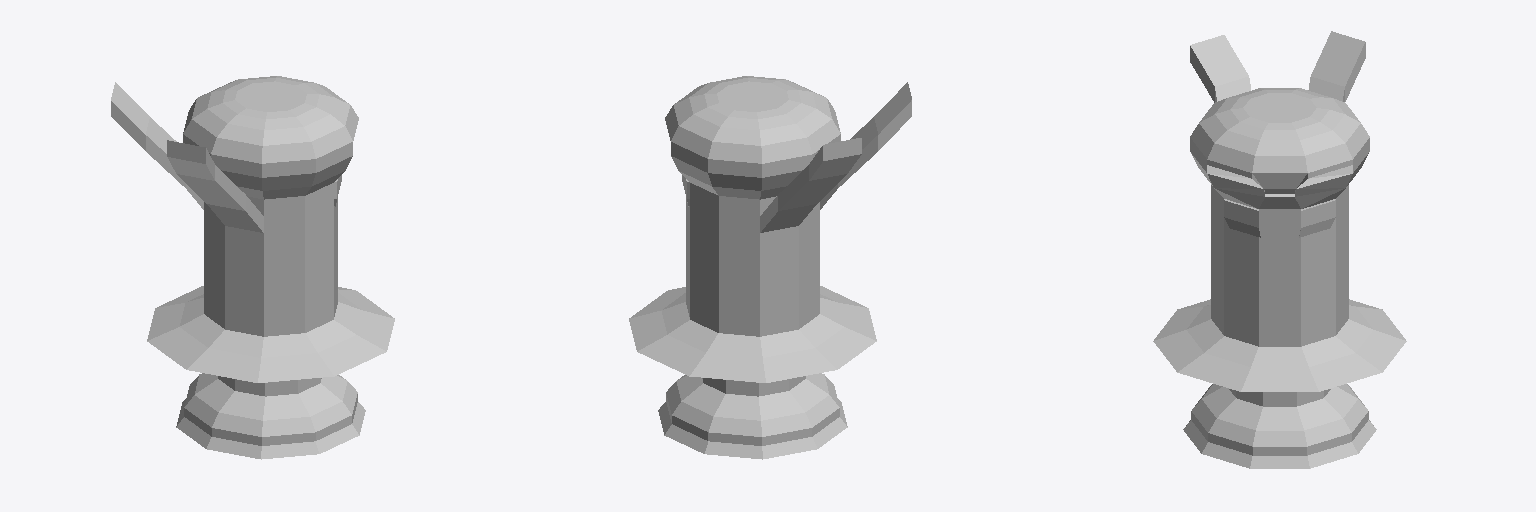
File: totem3.obj
3 renders of one model, left to right at view 1: azimuth 30°, elevation 25°; view 2: azimuth 150°, elevation 25°; view 3: azimuth 270°, elevation 25°, orthographic.
Visible parts, largest first — view 1: Cylinder; view 2: Cylinder; view 3: Cylinder.
Boxes of the visible parts, box(x1,y1,x2,y2) form: Cylinder: box(111, 76, 394, 459); Cylinder: box(629, 76, 911, 459); Cylinder: box(1153, 31, 1406, 468).
Bounding box in the file's own units: 4.02 × 5.35 × 3.69.